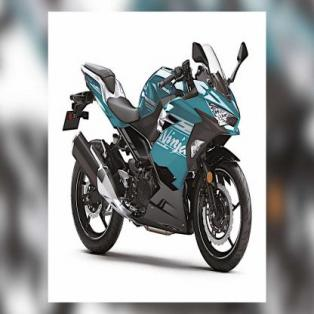Motocicleta: (62, 35, 254, 276)
